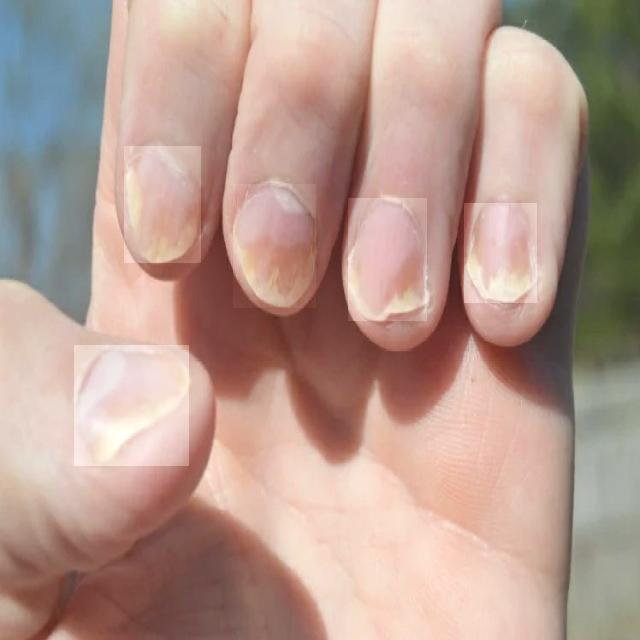diabetes: (74, 346, 189, 466), (234, 184, 316, 308), (349, 198, 427, 321), (124, 146, 201, 263), (465, 203, 537, 303)
